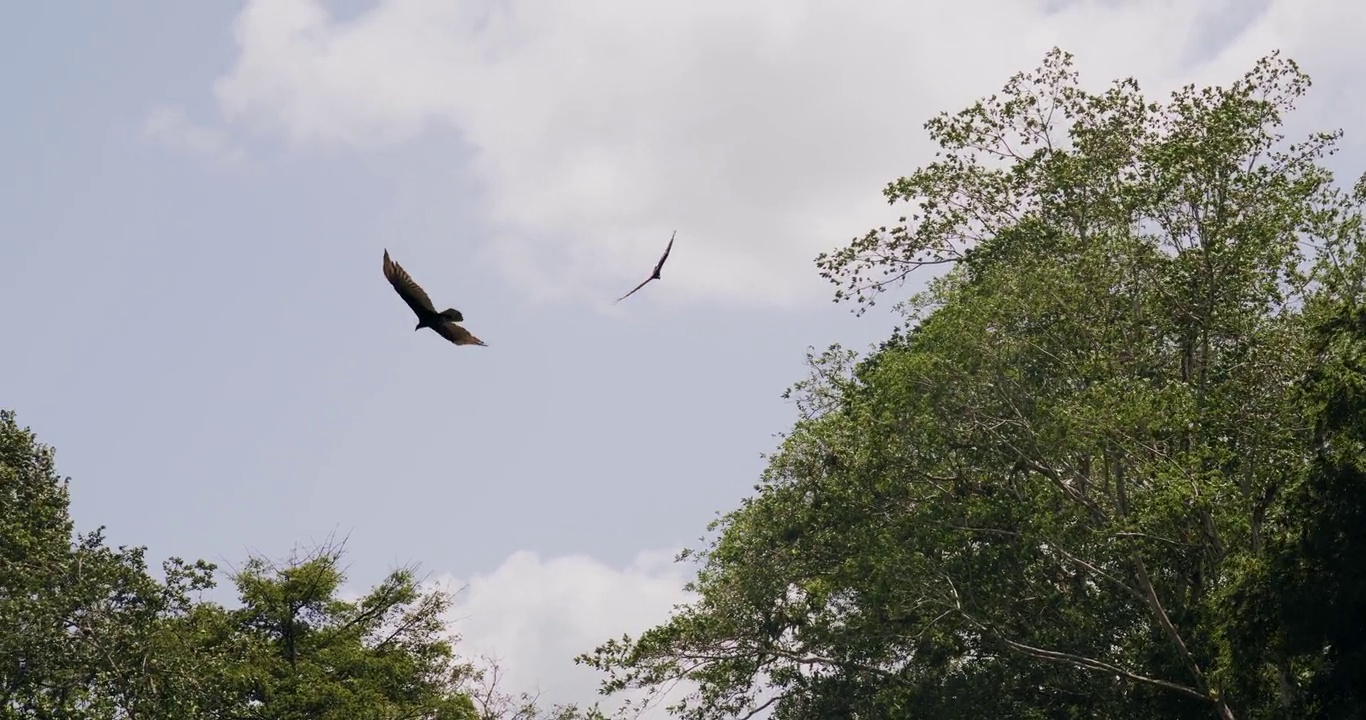bird: (380, 251, 491, 344), (612, 227, 680, 303)
